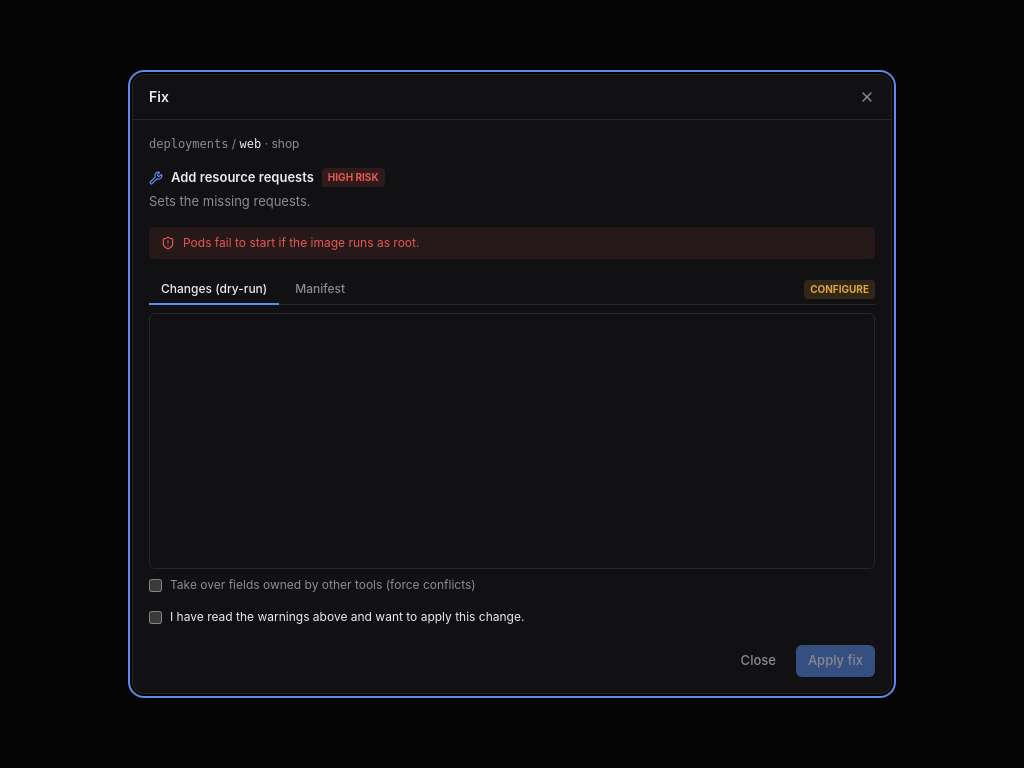
Test: FixDialog › requires explicit acknowledgement for high-risk fixes
The image size is (1024, 768).
Expected: the button "Apply fix" is disabled, [796,645,875,677]
What coordinates should you click on to do the following:
click the checkbox labelled "I have read the warnings"
I would click on:
 (156, 618)
Its box is [149,611,162,624].
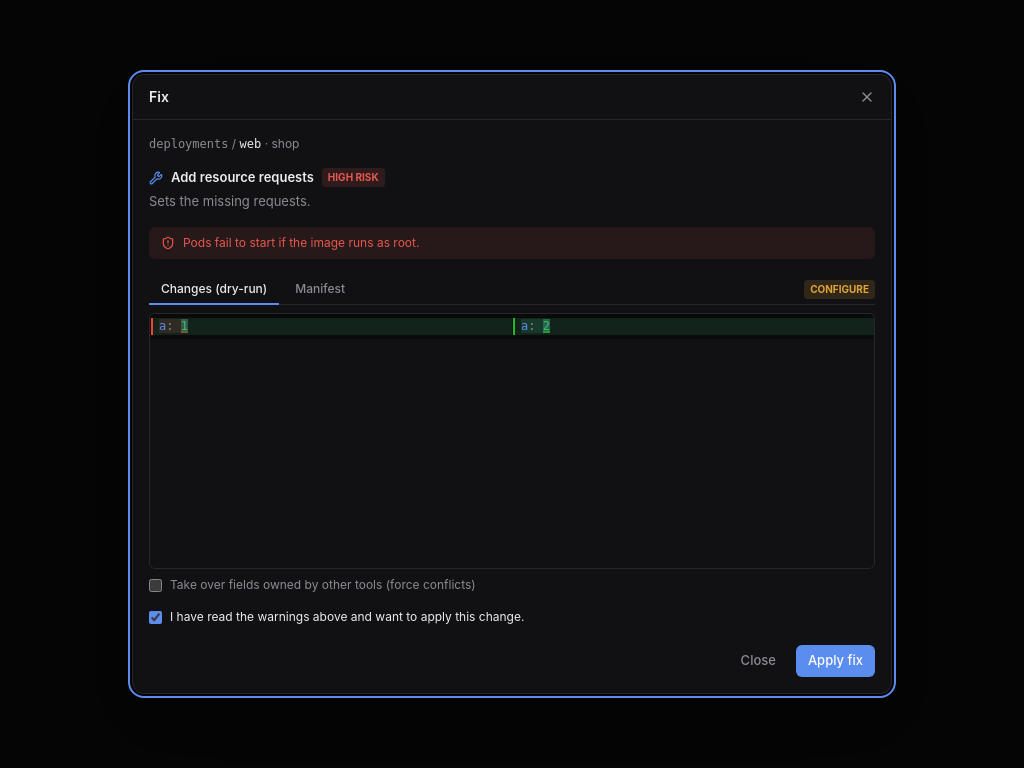
Expected: the button "Apply fix" is enabled, [796,645,875,677]
